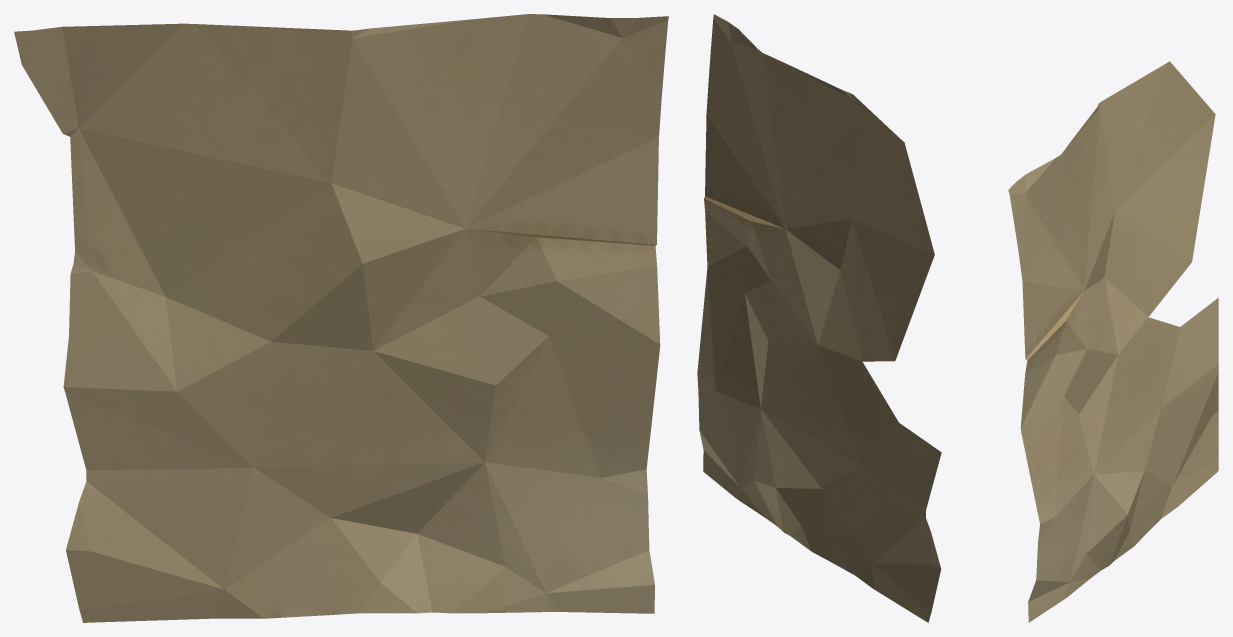
The picture shows the model from 3 angles, left to right: view 1: azimuth 30°, elevation 25°; view 2: azimuth 150°, elevation 25°; view 3: azimuth 270°, elevation 25°; orthographic projection. The views are drawn at different scales.
Bounding box in the file's own units: 0.7307 × 0.8374 × 0.369.
Materials: 2 (2 with a texture image).
